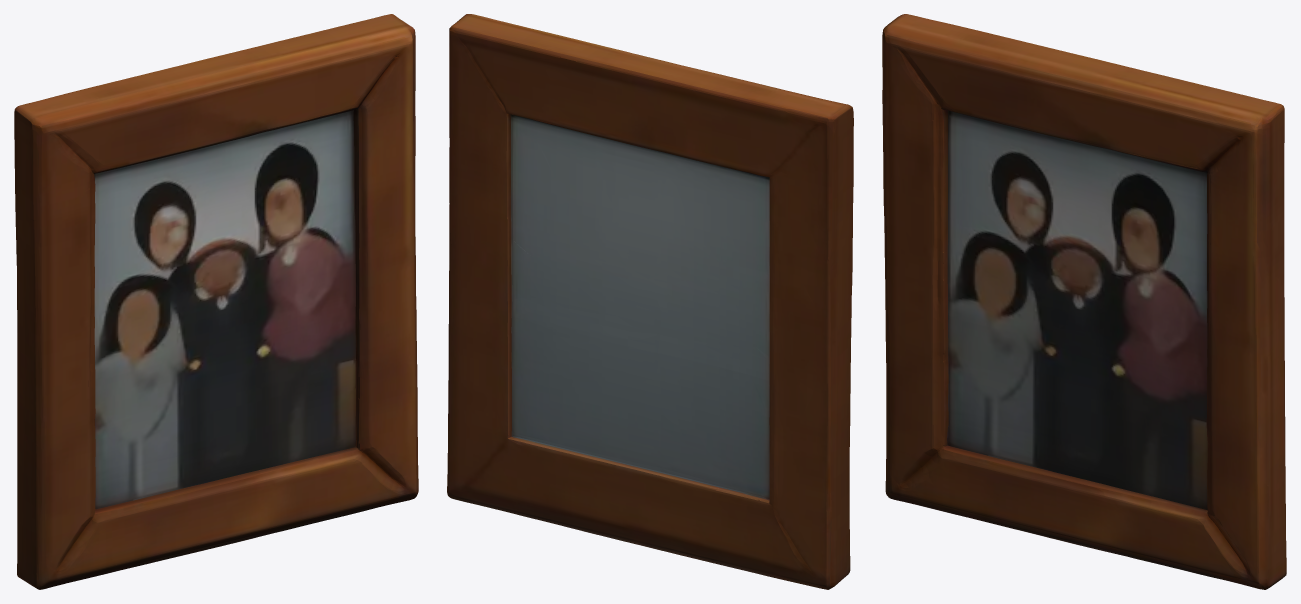
Rendered from portrait family.glb.
The picture shows the model from 3 angles, left to right: view 1: azimuth 30°, elevation 25°; view 2: azimuth 150°, elevation 25°; view 3: azimuth 330°, elevation 25°; orthographic projection.
Visible parts, largest first — view 1: world; view 2: world; view 3: world.
Part boxes in pixels (bbox=[...]): world: bbox=[14, 14, 418, 589]; world: bbox=[447, 14, 853, 589]; world: bbox=[882, 14, 1286, 589].
Bounding box in the file's own units: 0.8524 × 1 × 0.0987.
Materials: 1 (1 with a texture image).
